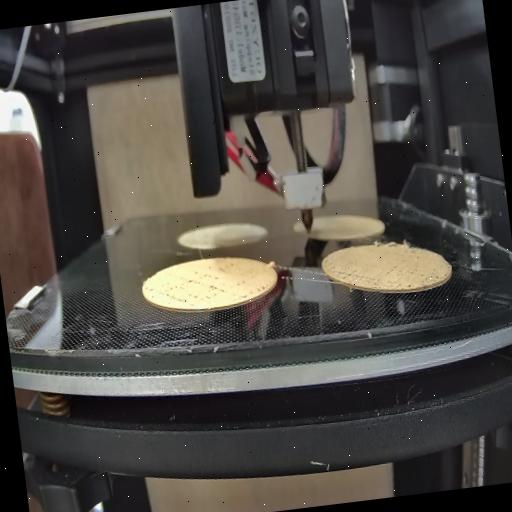under_extrusion: (160, 267, 228, 307), (381, 251, 439, 290), (335, 262, 370, 290), (238, 280, 274, 304)
